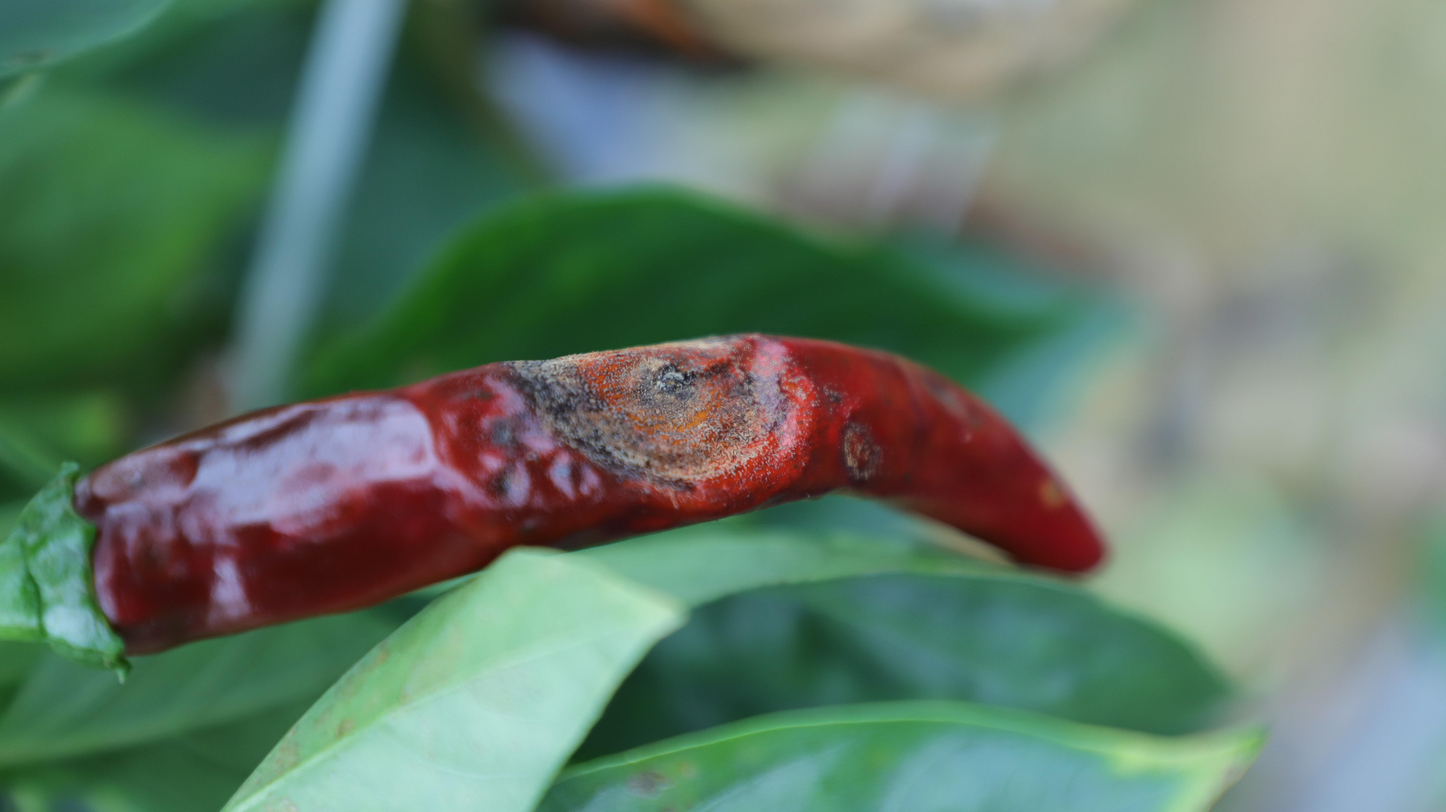Busuk Buah Antraknosa: (7, 328, 1111, 679)
